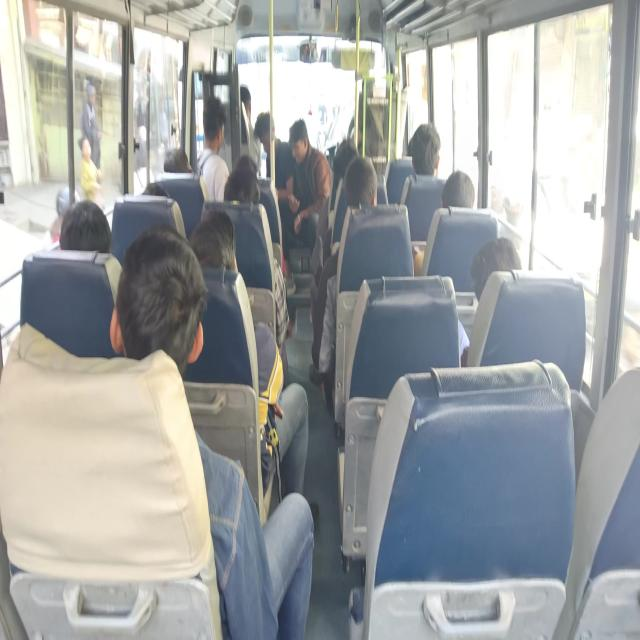person: (107, 224, 208, 371), (185, 208, 248, 282), (469, 234, 521, 310), (56, 193, 110, 263), (337, 154, 382, 220), (437, 159, 479, 216), (198, 86, 230, 158), (409, 127, 446, 187), (286, 112, 314, 164), (334, 125, 359, 182), (255, 106, 280, 158), (227, 168, 255, 214), (164, 144, 194, 180), (138, 174, 170, 207), (357, 58, 377, 106), (236, 77, 253, 132), (233, 149, 261, 177), (405, 131, 415, 166)
